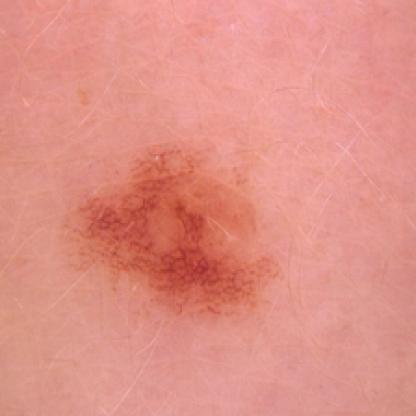benign: (84, 152, 312, 308)
